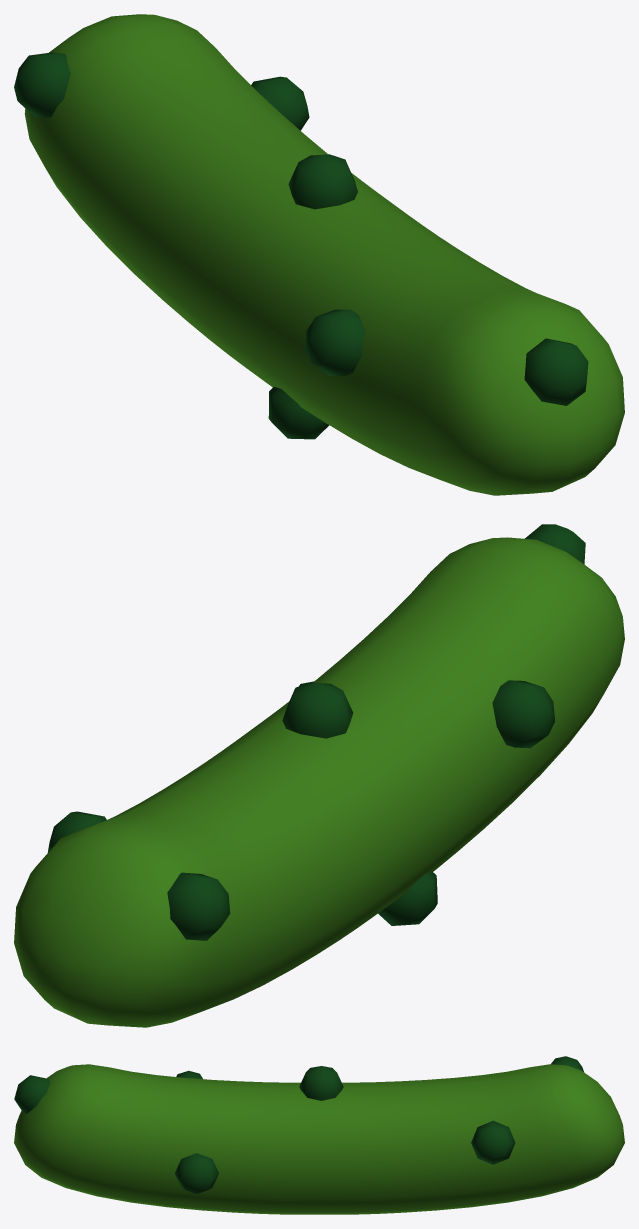
The model's file is gurke.fbx.
The picture shows the model from 3 angles, top to bottom: view 1: azimuth 30°, elevation 25°; view 2: azimuth 150°, elevation 25°; view 3: azimuth 270°, elevation 25°; orthographic projection. The views are drawn at different scales.
Parts seen in each view (by area): view 1: gurke; view 2: gurke; view 3: gurke.
Part boxes in pixels (x1,y1,x2,y2): gurke: [14, 14, 624, 495]; gurke: [14, 524, 624, 1027]; gurke: [14, 1056, 624, 1214].
Size of the model in its own units: 253 by 240 by 880.
